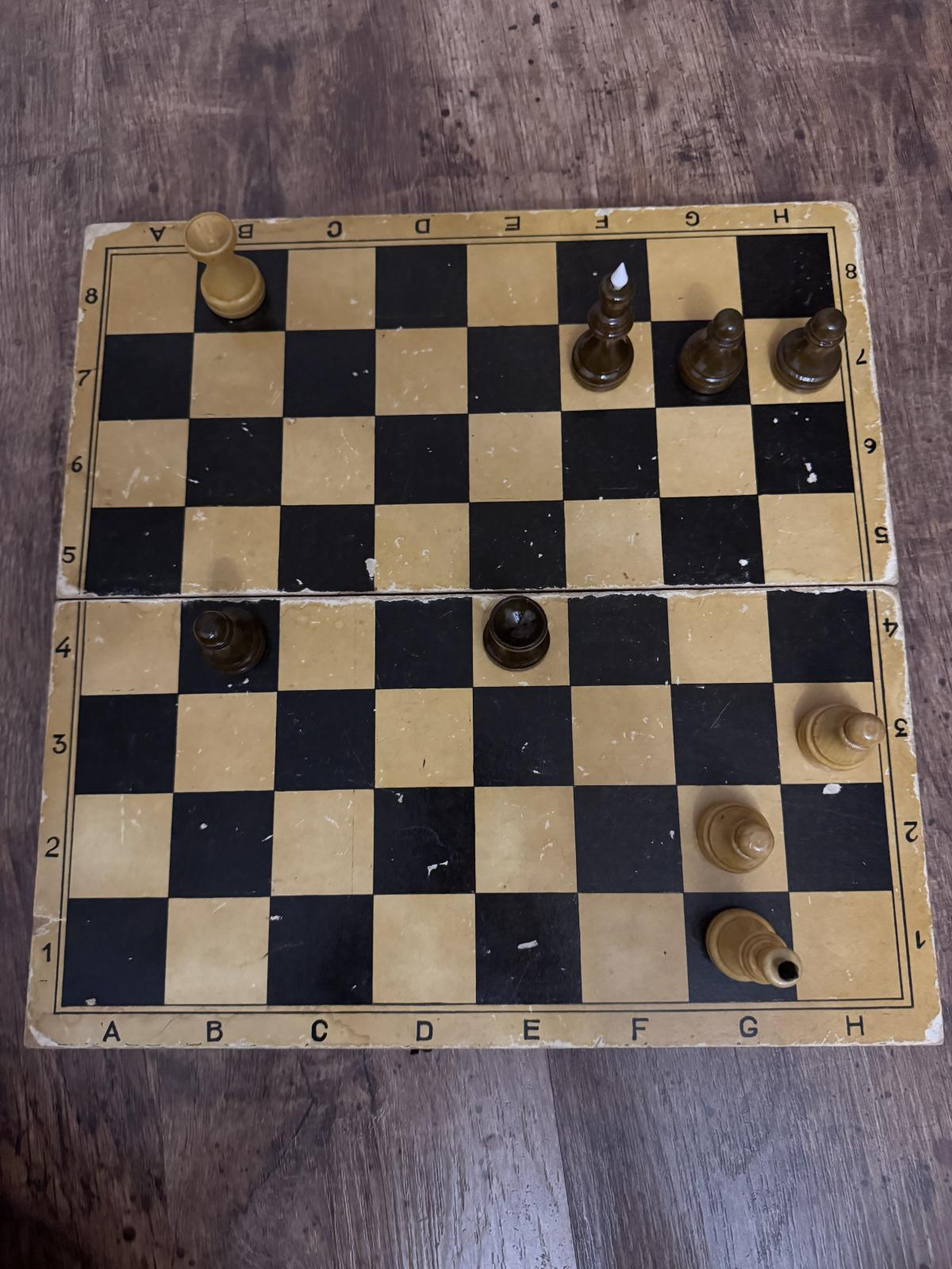Chess-Board: (62, 233, 903, 1006)
